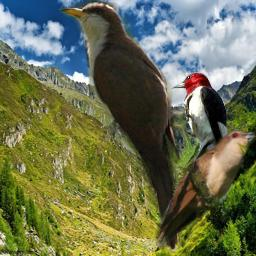Cuckoo: (59, 0, 186, 255), (151, 129, 256, 253)
Woodpecker: (169, 72, 229, 173)
